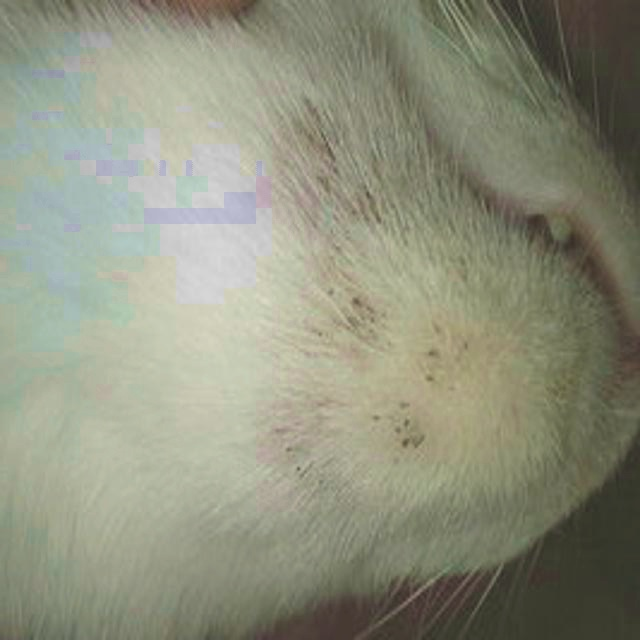acne: (309, 290, 482, 455)
